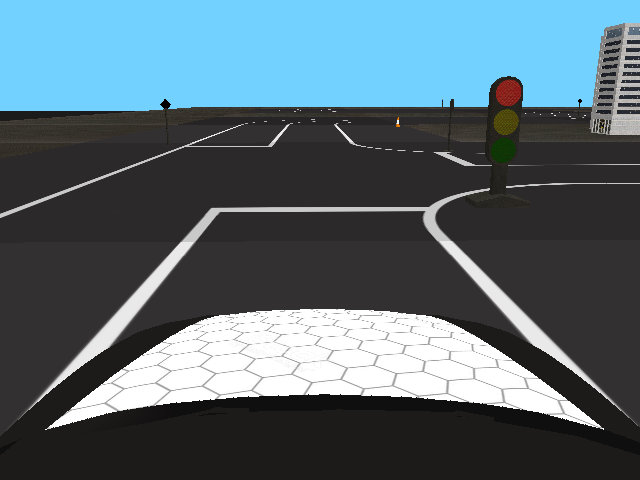red_light: (486, 76, 524, 165)
